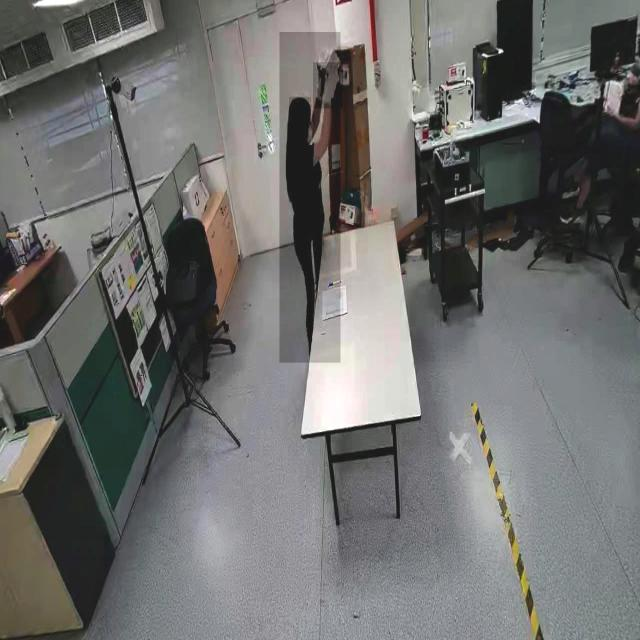hand_glove: (313, 62, 343, 110)
head_nohelmet: (289, 97, 311, 116)
person: (279, 32, 341, 364)
